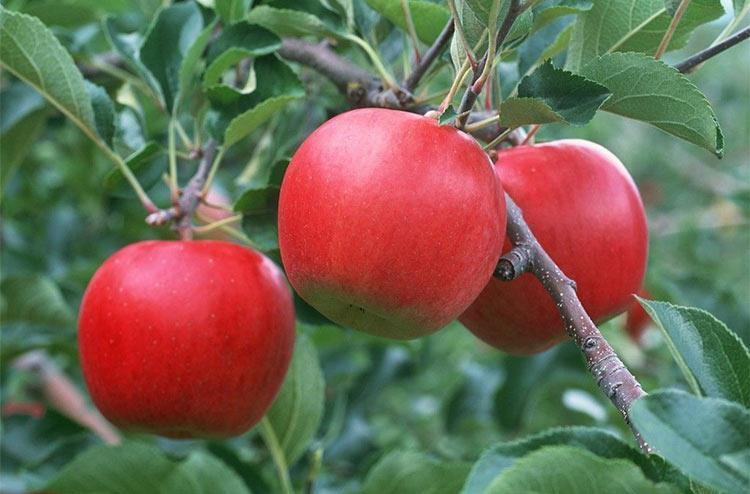apple: (274, 106, 508, 342), (75, 239, 297, 437), (458, 137, 649, 352)
